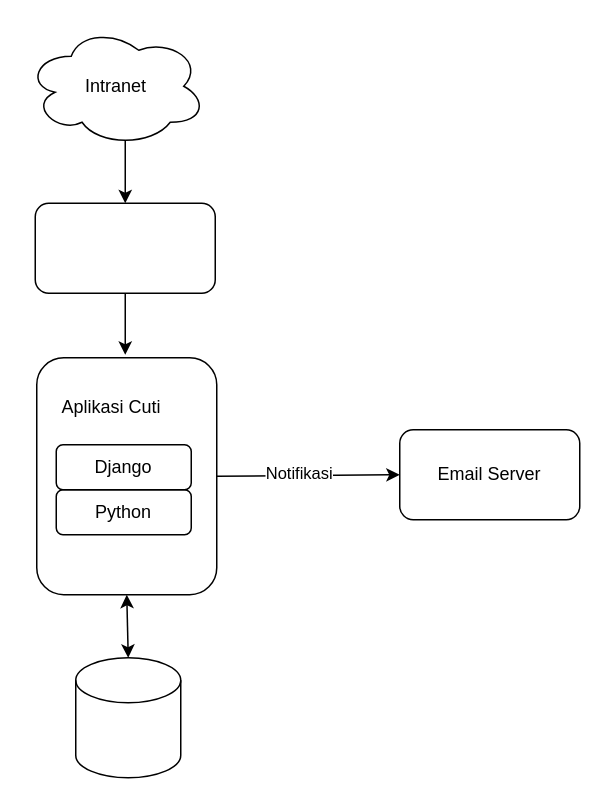
Some shapes in this 606 by 804 pixel diagram are drawn without their labels. Each missing label, with the centre of its shape:
"Nginx Web Server" goes at pixel 124 247.
"Postgresql" goes at pixel 127 717.
